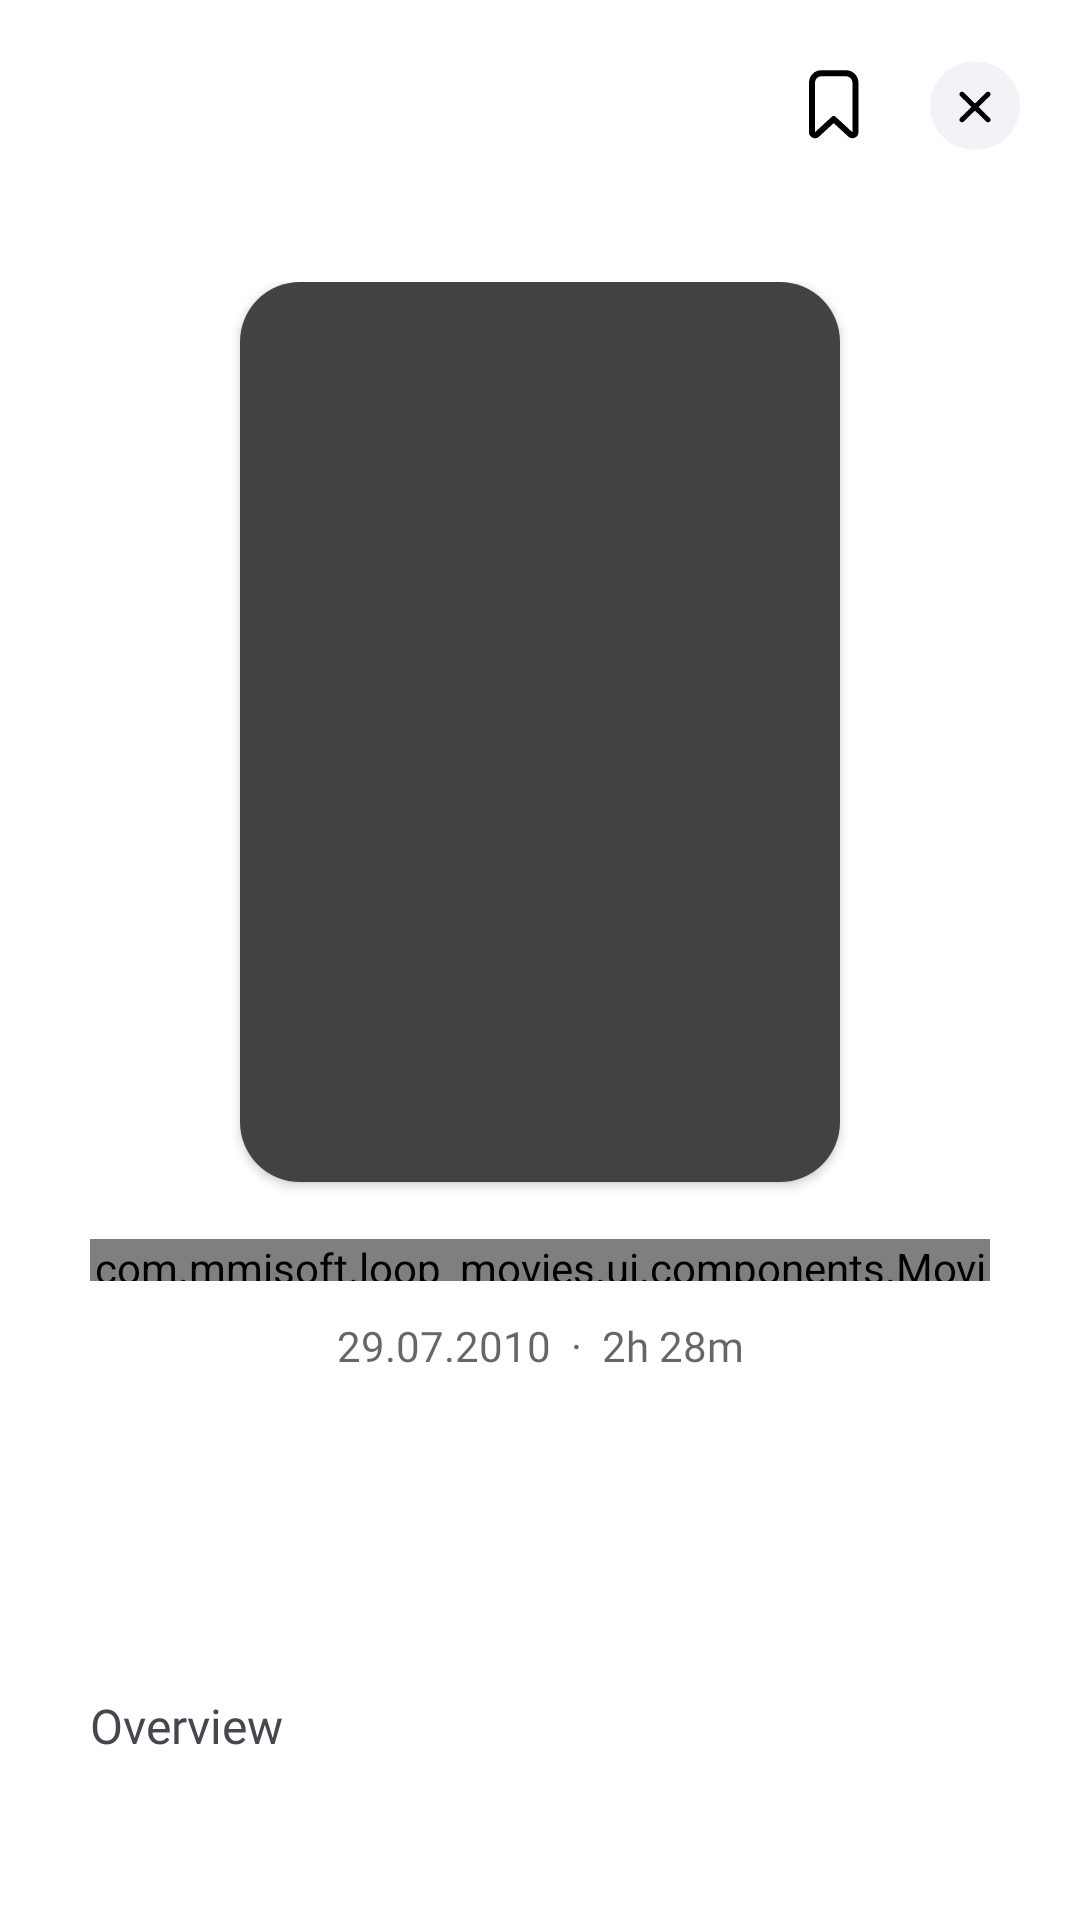

Icon click points for this 1080px x 1920px phone screenshot, format point (x, y):
Bookmark movie: point (834, 104)
Close movie detail screen: point (975, 106)
